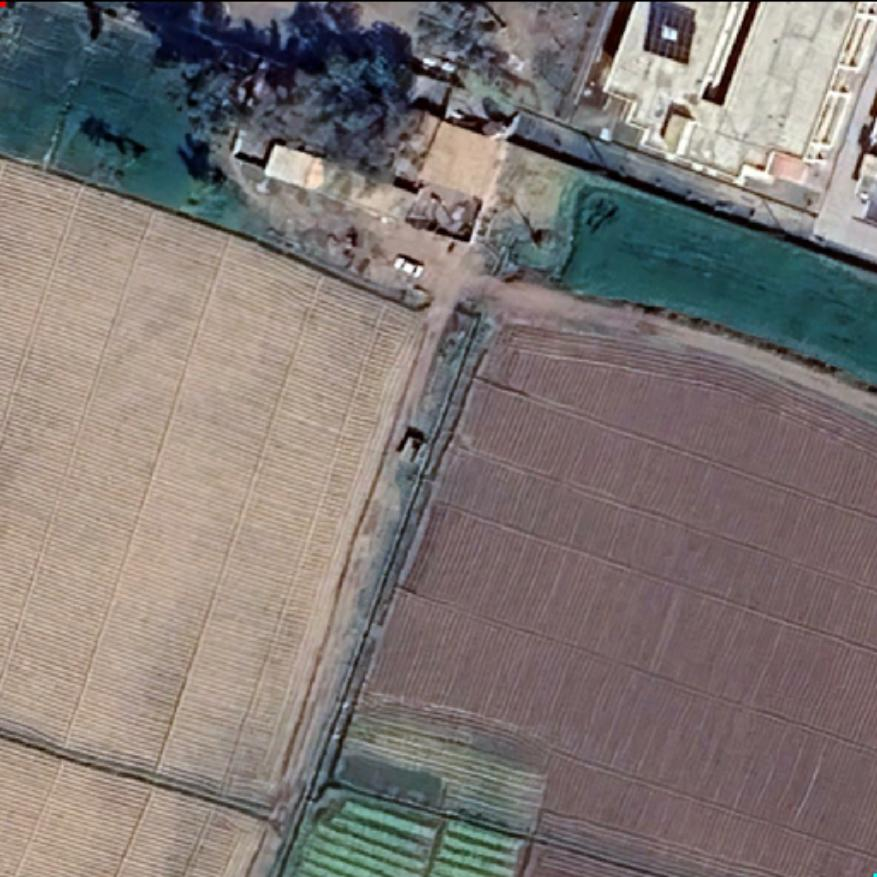Solarpanel: (640, 0, 700, 68)
